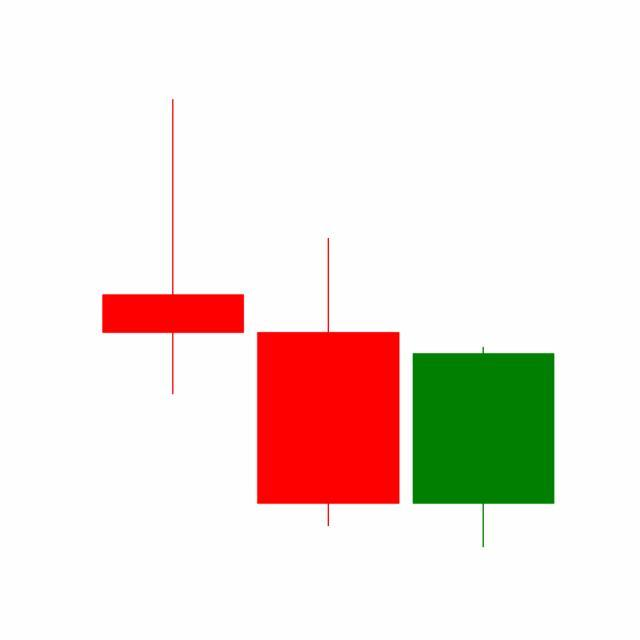Marubozu: (406, 345, 562, 550)
